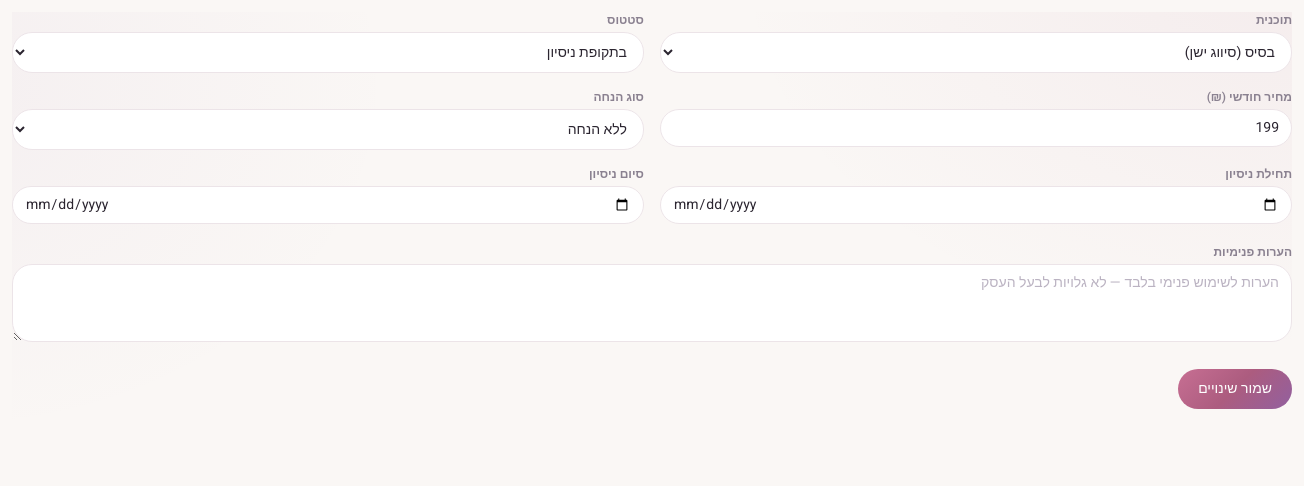
Test: SubscriptionForm › shows the server error on failure
This screenshot has width=1304, height=486.
Click the button "שמור שינויים" at [1235, 389], box [1178, 369, 1292, 409]
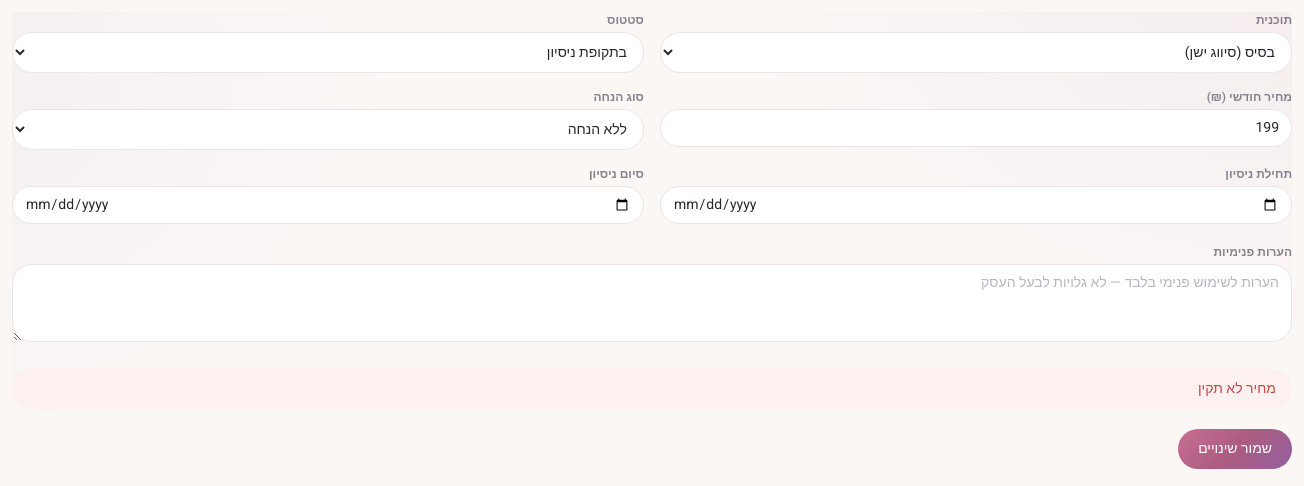
Expected: the text "מחיר לא תקין" is shown, [12, 369, 1292, 409]
